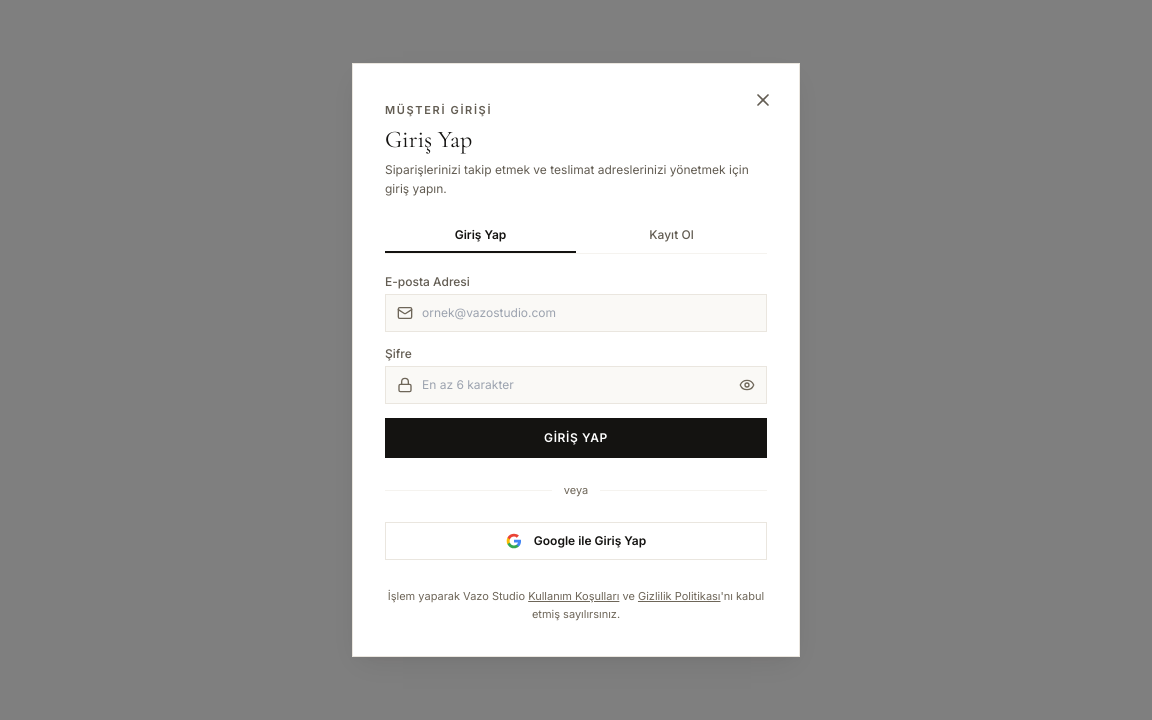
Test case: AuthModal Component (Real Google OAuth Customer Sign-In) › handles email/password submission failure and translates Invalid login credentials to Turkish
The image size is (1152, 720).
Type "test@vazostudio.com" into the field with placeholder "ornek@vazostudio.com" at (576, 313), box x1=385 y1=294 x2=767 y2=332
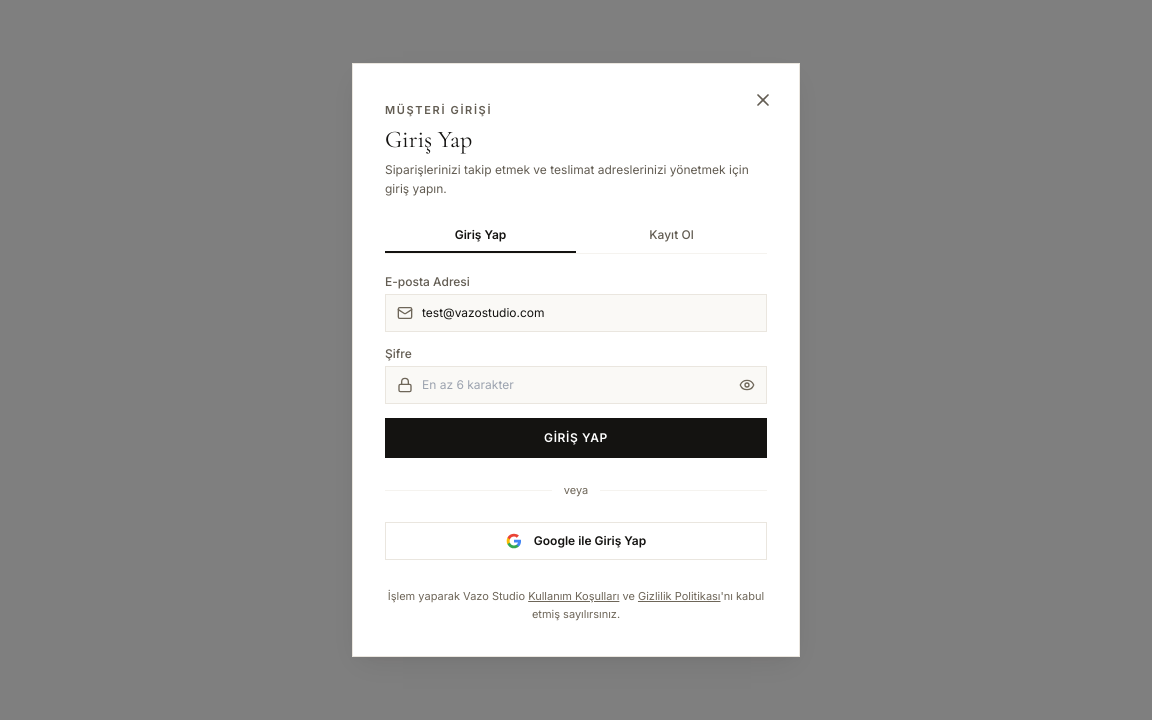
Type "wrongpass" into the password field with placeholder "En az 6 karakter" at (576, 385), box x1=385 y1=366 x2=767 y2=404
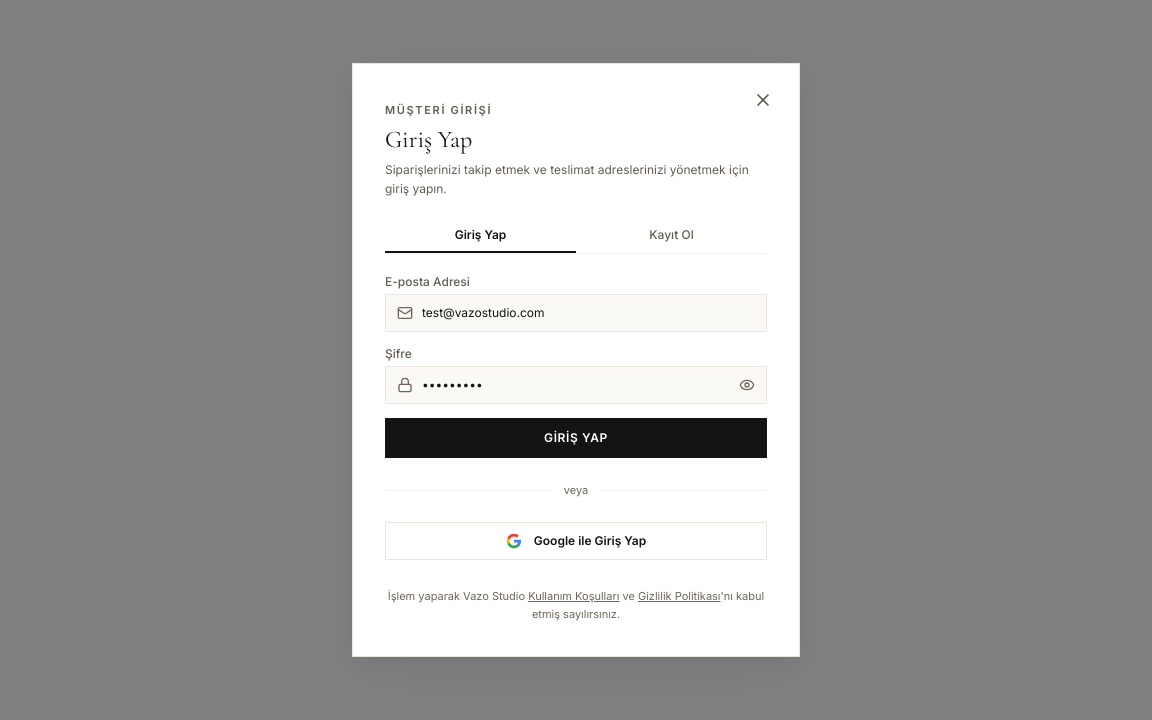
Click the submit button at (576, 438), box x1=385 y1=418 x2=767 y2=458
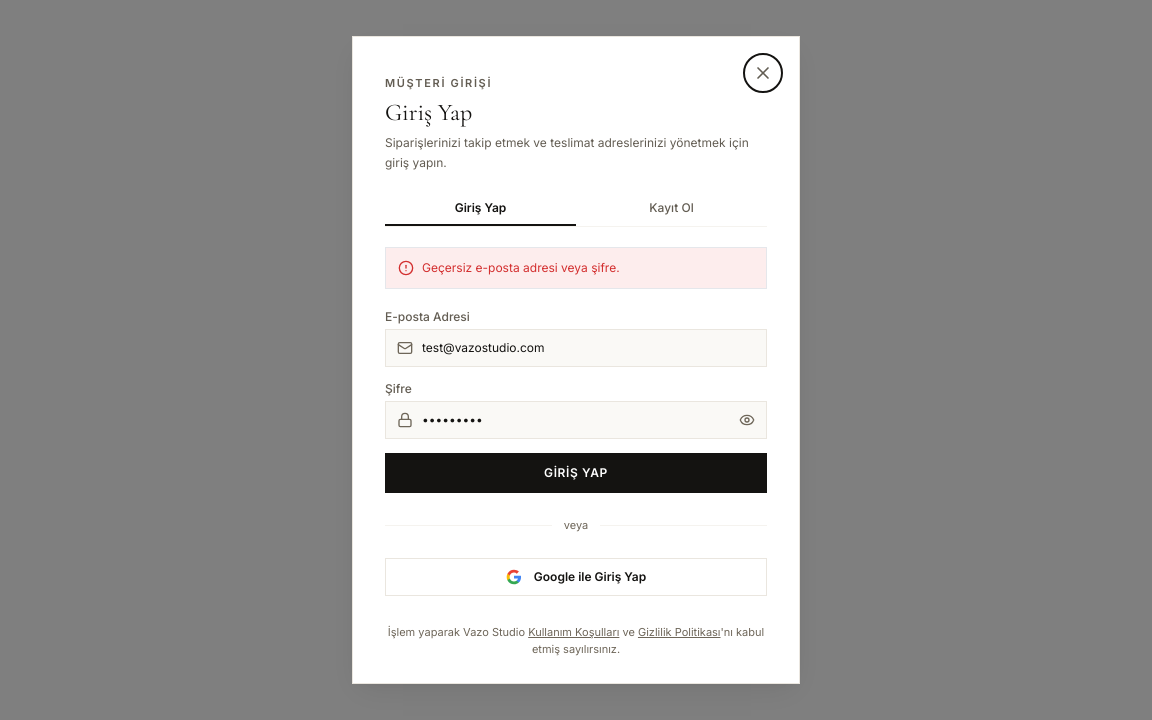
Expected: the text "Geçersiz e-posta adresi veya şifre." is shown, x1=422 y1=260 x2=620 y2=276
